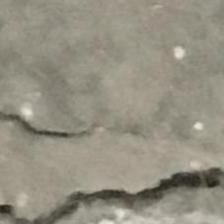Crack: (0, 109, 224, 224)
